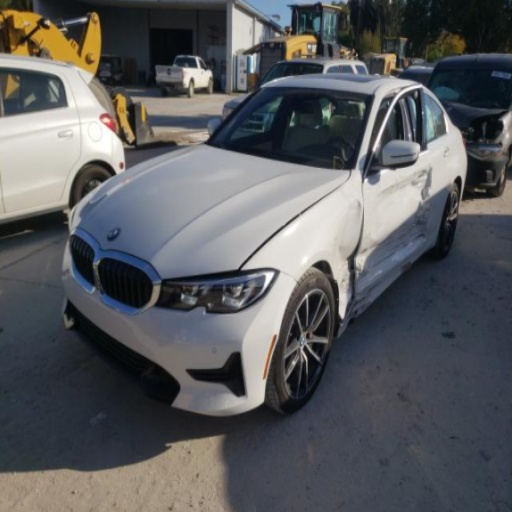dent: (332, 162, 434, 329)
rust: (261, 333, 277, 381)
